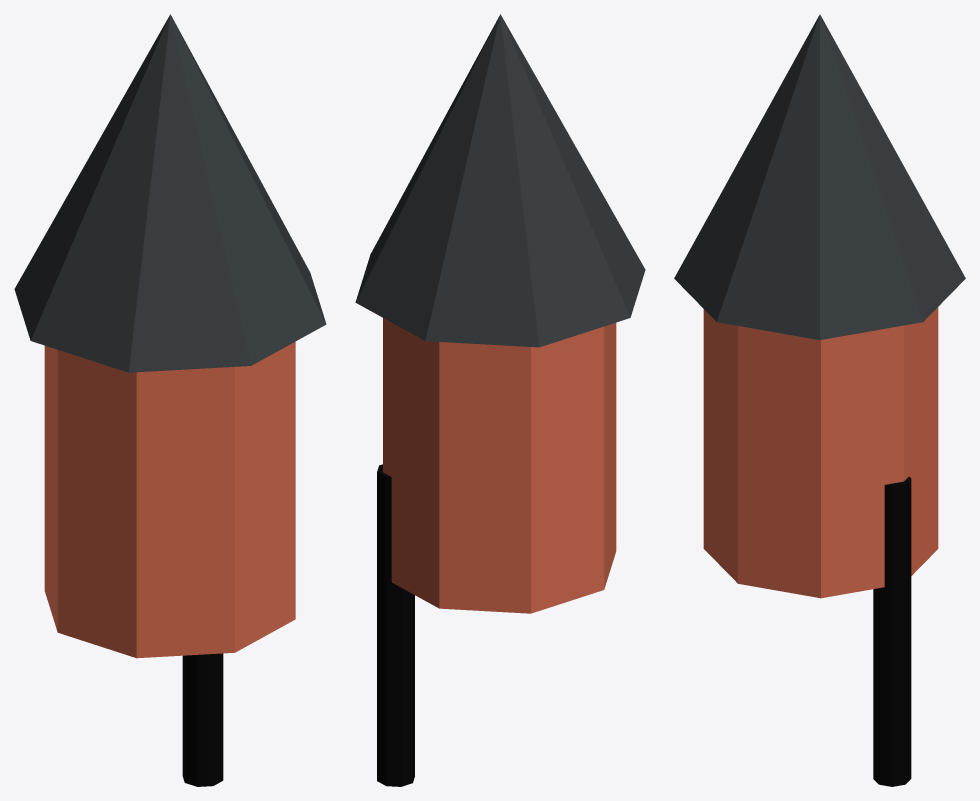
The model's file is firework.fbx.
The picture shows the model from 3 angles, left to right: view 1: azimuth 30°, elevation 25°; view 2: azimuth 150°, elevation 25°; view 3: azimuth 270°, elevation 25°; orthographic projection. The views are drawn at different scales.
Parts seen in each view (by area): view 1: fire_work; view 2: fire_work; view 3: fire_work.
Boxes of the visible parts, left/top/right/bottom form: fire_work: left=14, top=14, right=326, bottom=786; fire_work: left=355, top=14, right=645, bottom=786; fire_work: left=674, top=14, right=965, bottom=786.
Bounding box in the file's own units: 0.704 × 1.95 × 0.704.
